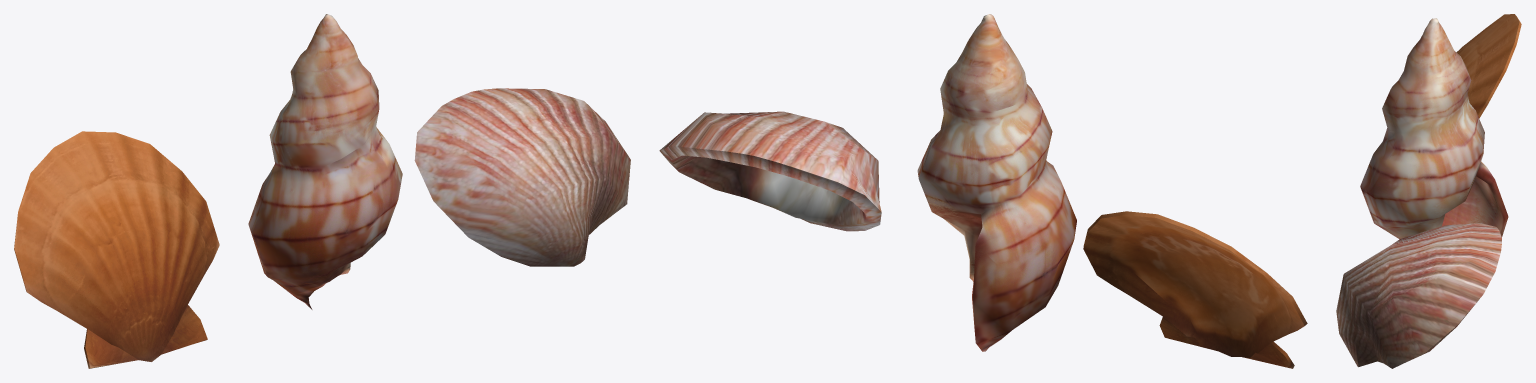
Rendered from seashell.glb.
The picture shows the model from 3 angles, left to right: view 1: azimuth 30°, elevation 25°; view 2: azimuth 150°, elevation 25°; view 3: azimuth 270°, elevation 25°; orthographic projection. The views are drawn at different scales.
Parts seen in each view (by area): view 1: scoica_01, scoica_02, Cylinder009; view 2: Cylinder009, scoica_01, scoica_02; view 3: Cylinder009, scoica_02, scoica_01.
Boxes of the visible parts, <box> form: scoica_01: <box>14,131,219,368</box>; scoica_02: <box>414,88,630,266</box>; Cylinder009: <box>248,14,402,309</box>; Cylinder009: <box>917,14,1076,351</box>; scoica_01: <box>1083,211,1307,368</box>; scoica_02: <box>659,111,881,231</box>; Cylinder009: <box>1360,18,1508,239</box>; scoica_02: <box>1336,223,1501,368</box>; scoica_01: <box>1456,14,1521,118</box>.
Size of the model in its own units: 1399 by 679 by 405.
3 materials, 3 textured.
